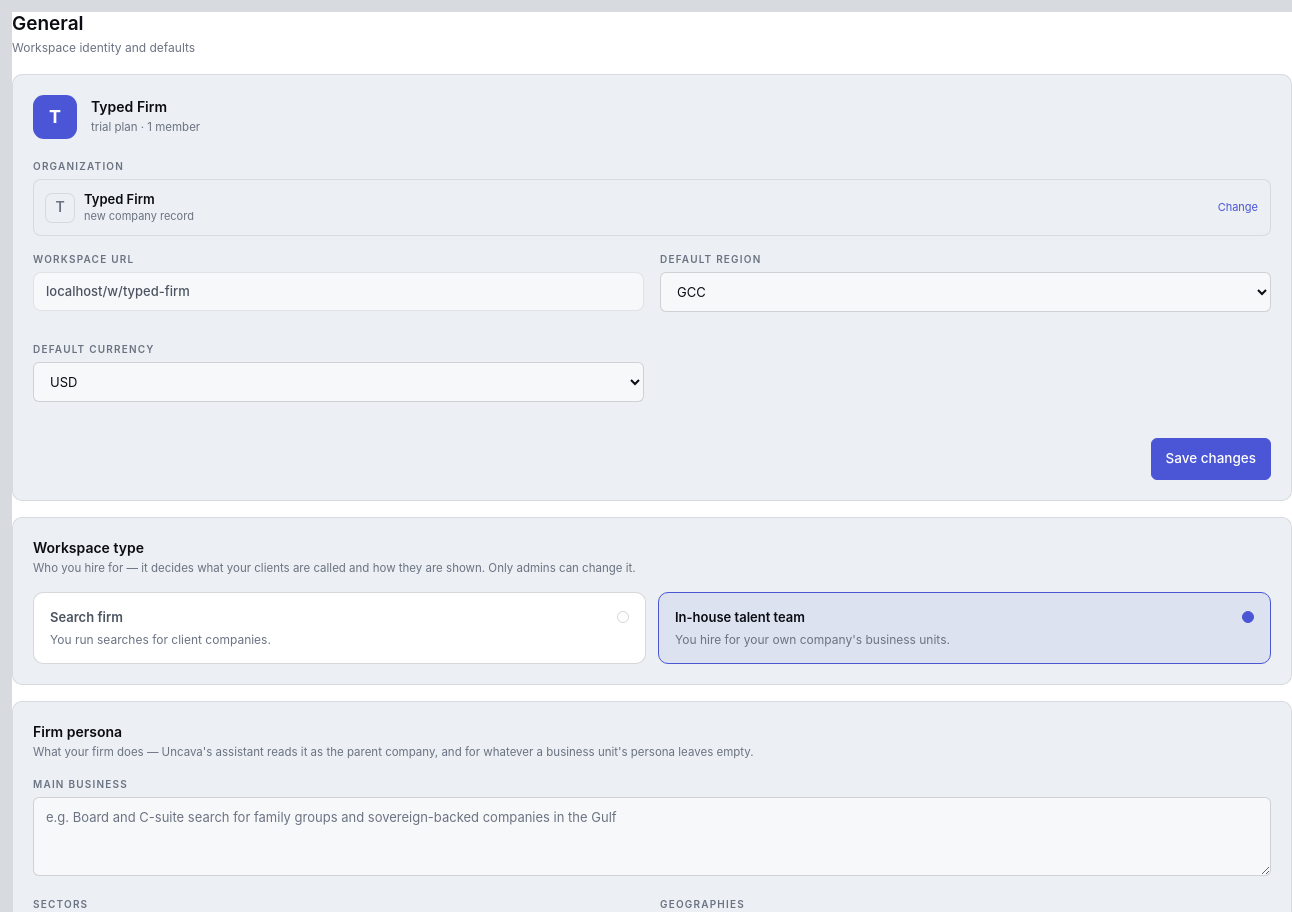
Test case: SettingsGeneralPage — the workspace's firm › will not save with no firm chosen
Click the button "Change": (1238, 208) [1218, 200, 1258, 216]
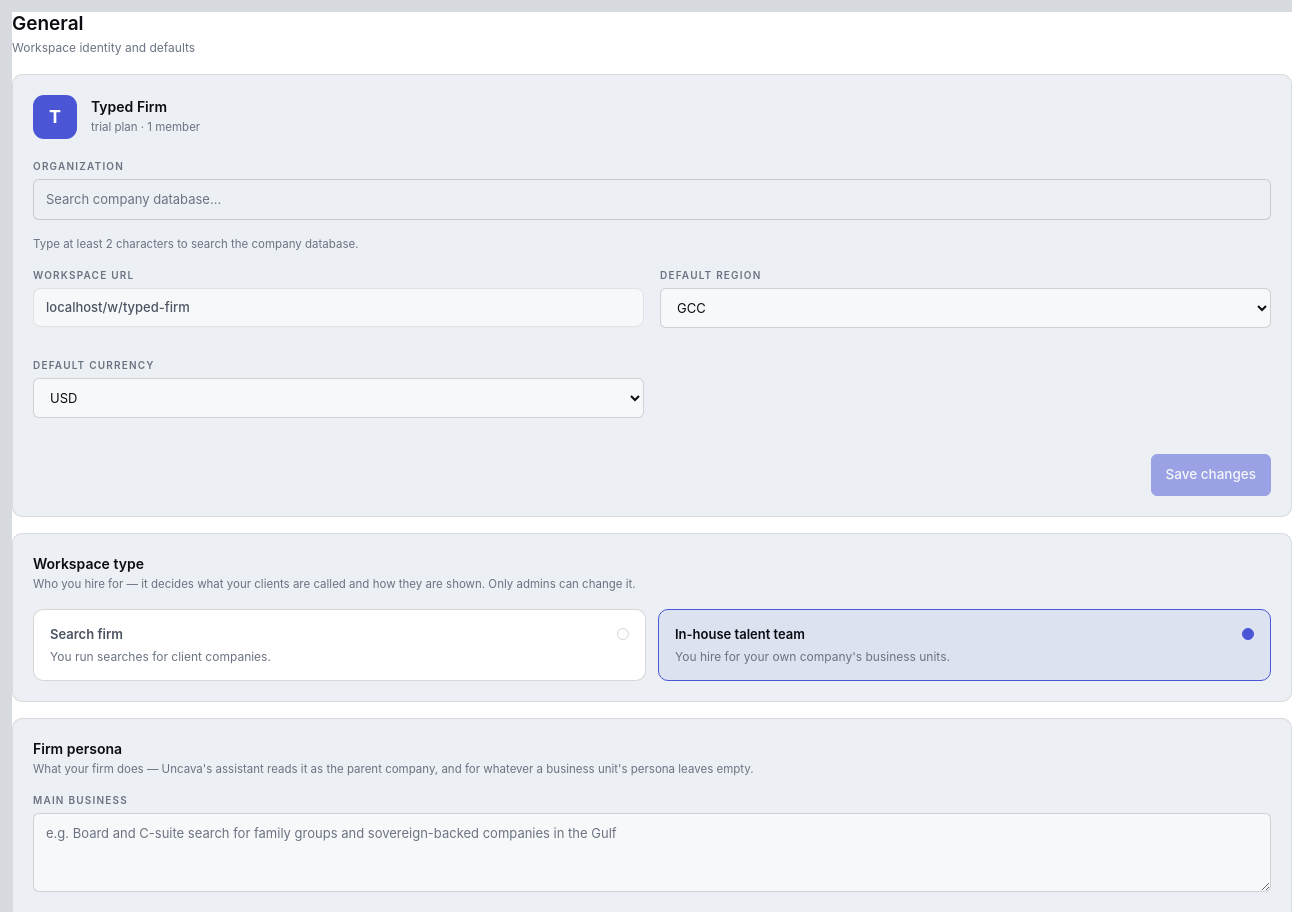
Now the button "Save changes" is disabled, box [1150, 454, 1271, 496]
